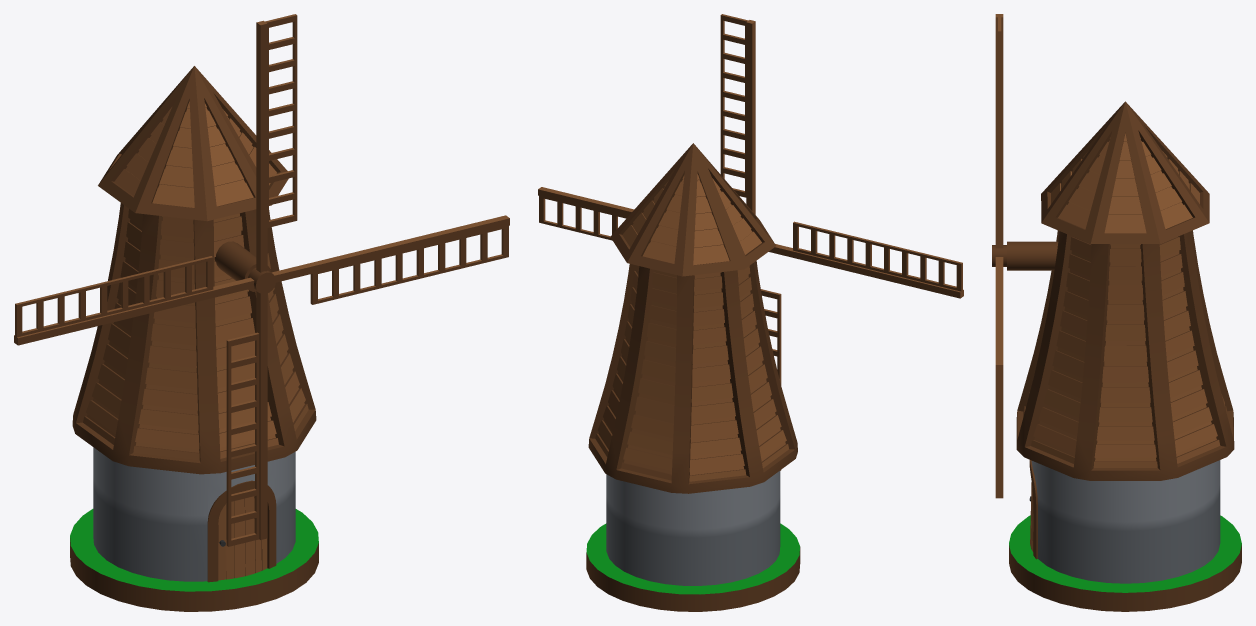
Rendered from Windmill.fbx.
The picture shows the model from 3 angles, left to right: view 1: azimuth 30°, elevation 25°; view 2: azimuth 150°, elevation 25°; view 3: azimuth 270°, elevation 25°; orthographic projection. The views are drawn at different scales.
Parts seen in each view (by area): view 1: Windmill, Fan; view 2: Windmill, Fan; view 3: Windmill, Fan.
Boxes of the visible parts, x1,y1,x2,y2 form: Windmill: [70, 66, 318, 611]; Fan: [14, 14, 509, 546]; Windmill: [586, 143, 800, 611]; Fan: [538, 14, 963, 470]; Windmill: [992, 101, 1241, 611]; Fan: [995, 14, 1003, 498].
Size of the model in its own units: 312 by 355 by 147.
